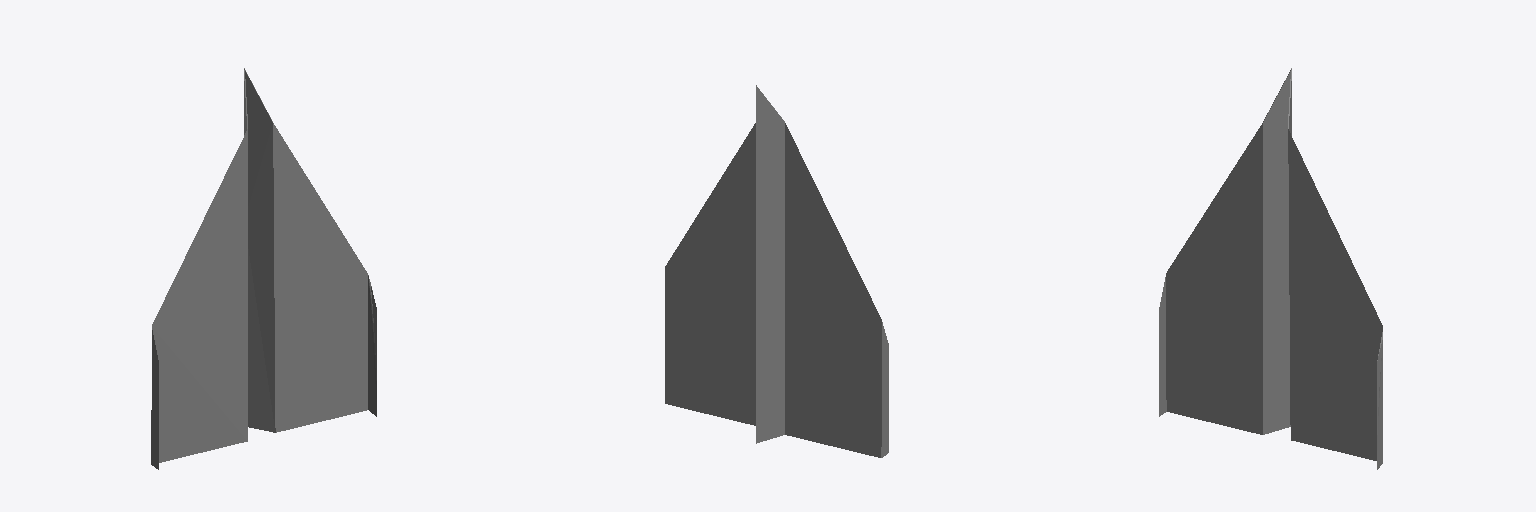
The model's file is RedPaperPlane.obj.
The picture shows the model from 3 angles: view 1: azimuth 30°, elevation 25°; view 2: azimuth 150°, elevation 25°; view 3: azimuth 330°, elevation 25°; orthographic projection.
Visible parts, largest first — view 1: Layer0_001; view 2: Layer0_001; view 3: Layer0_001.
Boxes of the visible parts, box(x1,y1,x2,y2) form: Layer0_001: box(151, 68, 376, 469); Layer0_001: box(665, 85, 888, 457); Layer0_001: box(1159, 68, 1382, 469).
Size of the model in its own units: 12.64 by 19.84 by 2.39.